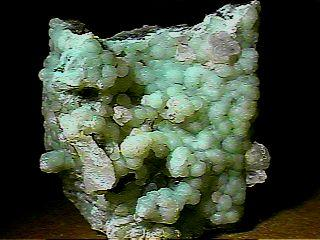prehnite: (39, 2, 271, 224), (137, 183, 201, 224)
